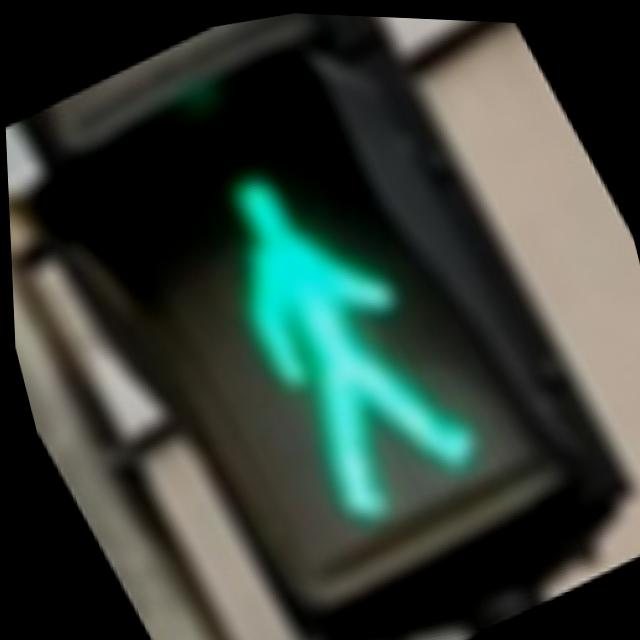green_light: (88, 53, 568, 619)
